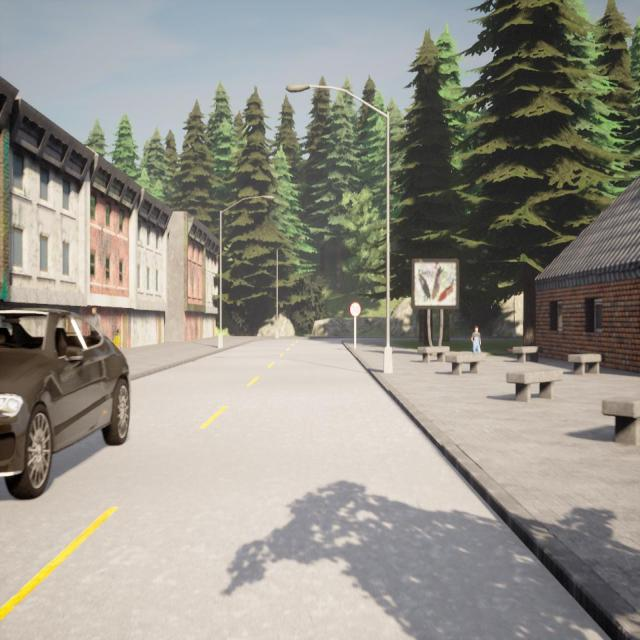Pedestrian: (88, 305, 100, 335), (471, 326, 481, 353), (112, 324, 122, 348)
Traffic_Signs: (349, 302, 362, 318)
Vehicle: (0, 309, 130, 498)
